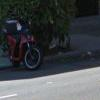Motorcycle: (4, 27, 41, 75)
